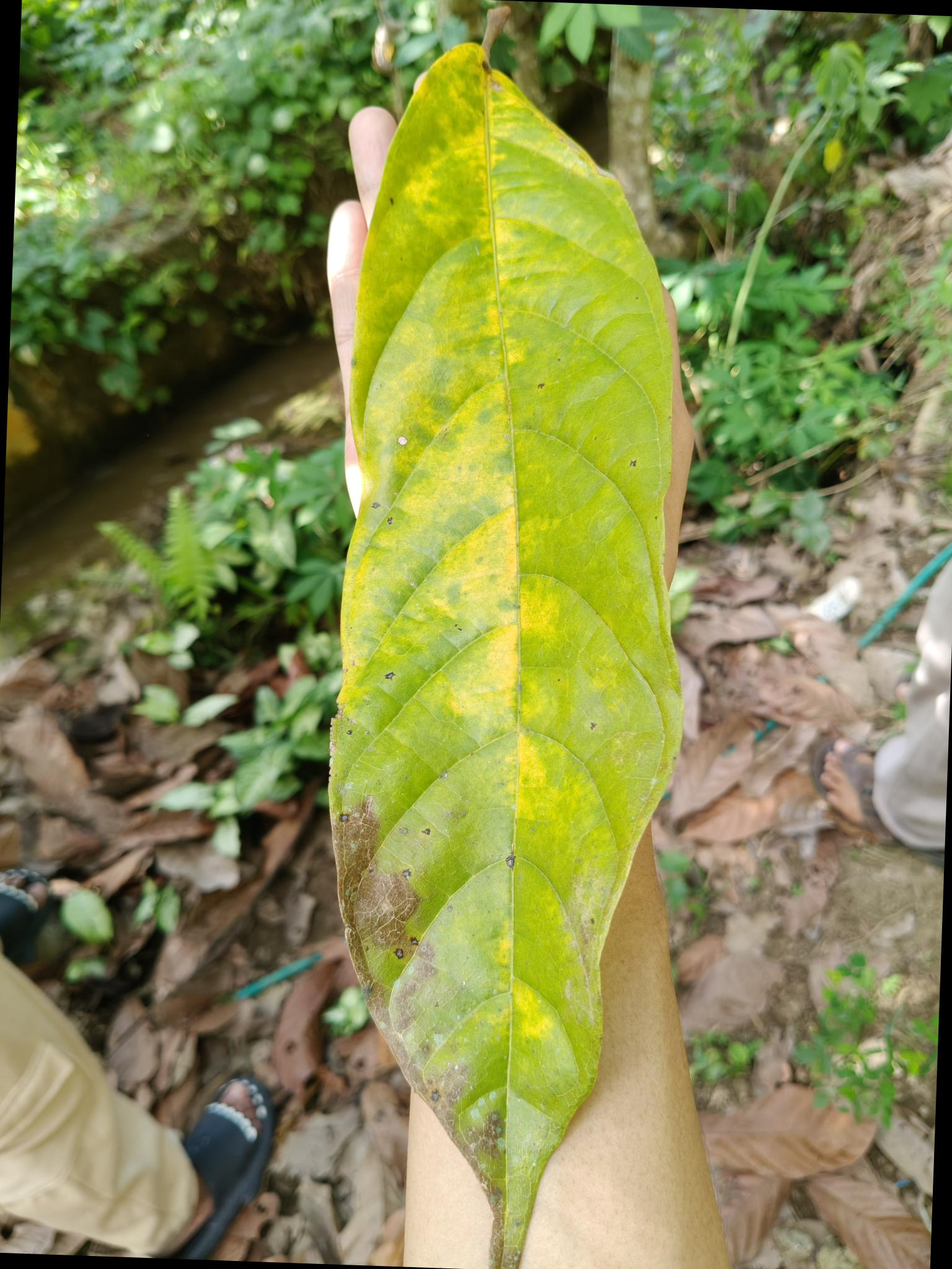Fosforo: (321, 46, 685, 1269)
